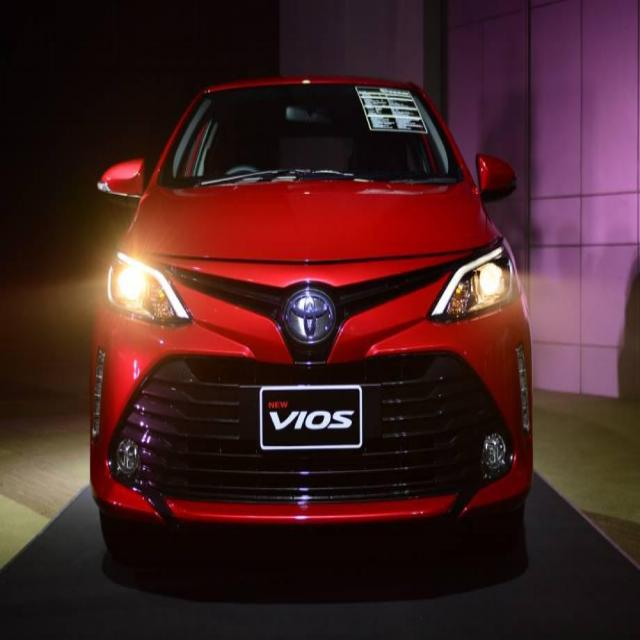front_bumper: (89, 239, 532, 525)
front_glass: (156, 82, 465, 189)
front_left_light: (428, 246, 521, 326)
front_right_light: (106, 252, 193, 328)
hood: (121, 180, 504, 260)
left_mirror: (476, 153, 517, 204)
right_mirror: (94, 157, 146, 206)
